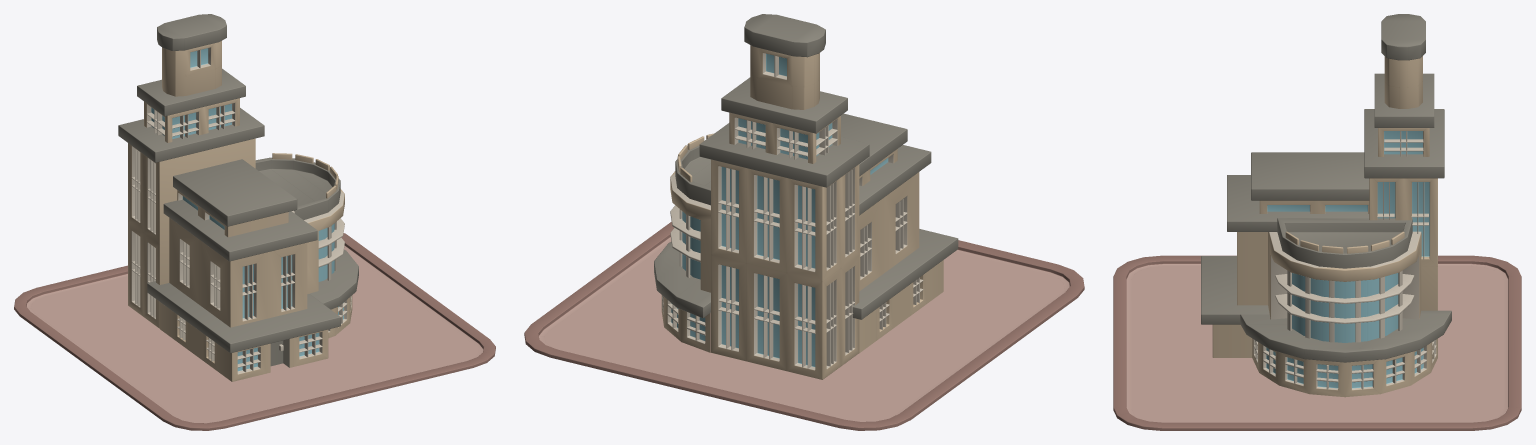
File: Reitoria_Level_02.fbx
3 views of the same model, side by side, from view 1: azimuth 30°, elevation 25°; view 2: azimuth 150°, elevation 25°; view 3: azimuth 270°, elevation 25° (orthographic). The views are drawn at different scales.
Parts seen in each view (by area): view 1: Predio_reitoria_Level_02.002; view 2: Predio_reitoria_Level_02.002; view 3: Predio_reitoria_Level_02.002.
Boxes of the visible parts, <box> form: Predio_reitoria_Level_02.002: <box>14,14,495,430</box>; Predio_reitoria_Level_02.002: <box>524,14,1084,430</box>; Predio_reitoria_Level_02.002: <box>1113,14,1521,430</box>.
Bounding box in the file's own units: 2000 × 1634 × 2000.
